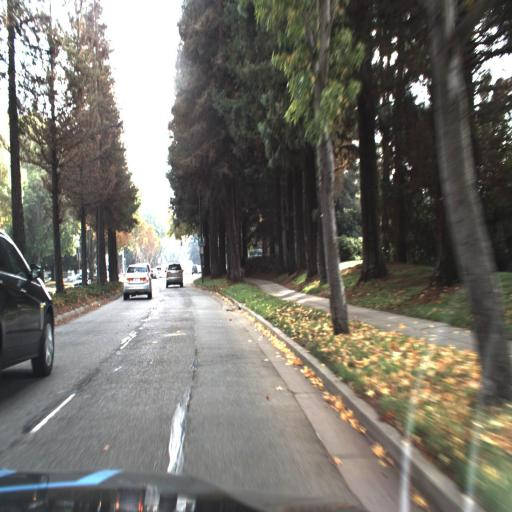car: (0, 212, 60, 378), (122, 261, 155, 300), (165, 258, 184, 288), (190, 264, 200, 278)
